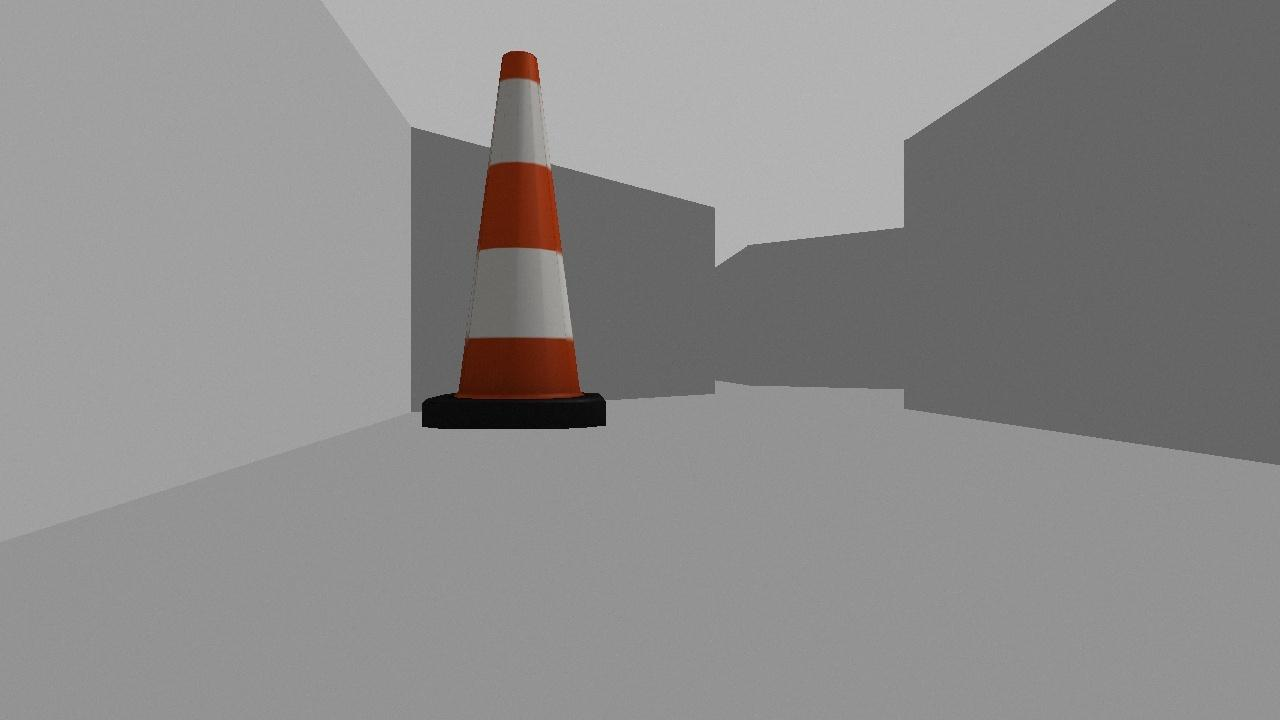cone_barrel: (420, 45, 608, 428)
